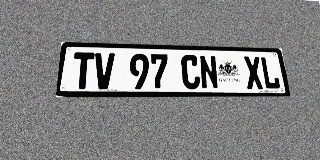7: (150, 54, 169, 89)
9: (130, 53, 149, 89)
C: (181, 55, 201, 89)
L: (260, 57, 281, 89)
N: (199, 55, 219, 89)
T: (71, 52, 95, 89)
V: (93, 53, 115, 89)
X: (243, 56, 264, 89)
